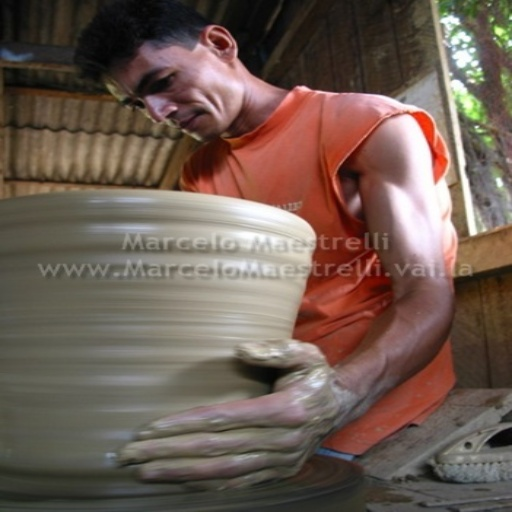hand: (110, 297, 393, 466)
